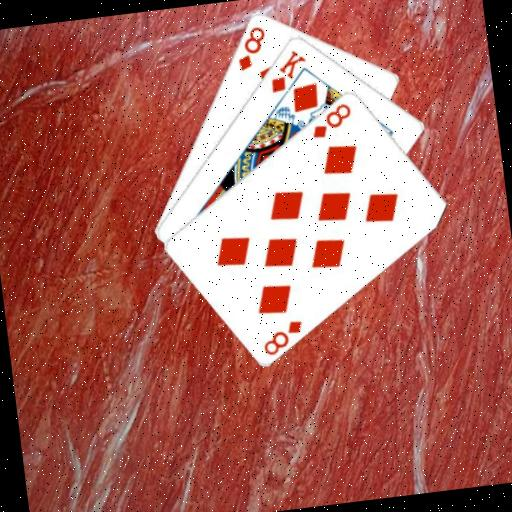8D: (306, 99, 356, 141), (258, 316, 308, 358), (231, 22, 271, 73)
KD: (263, 45, 311, 95)
